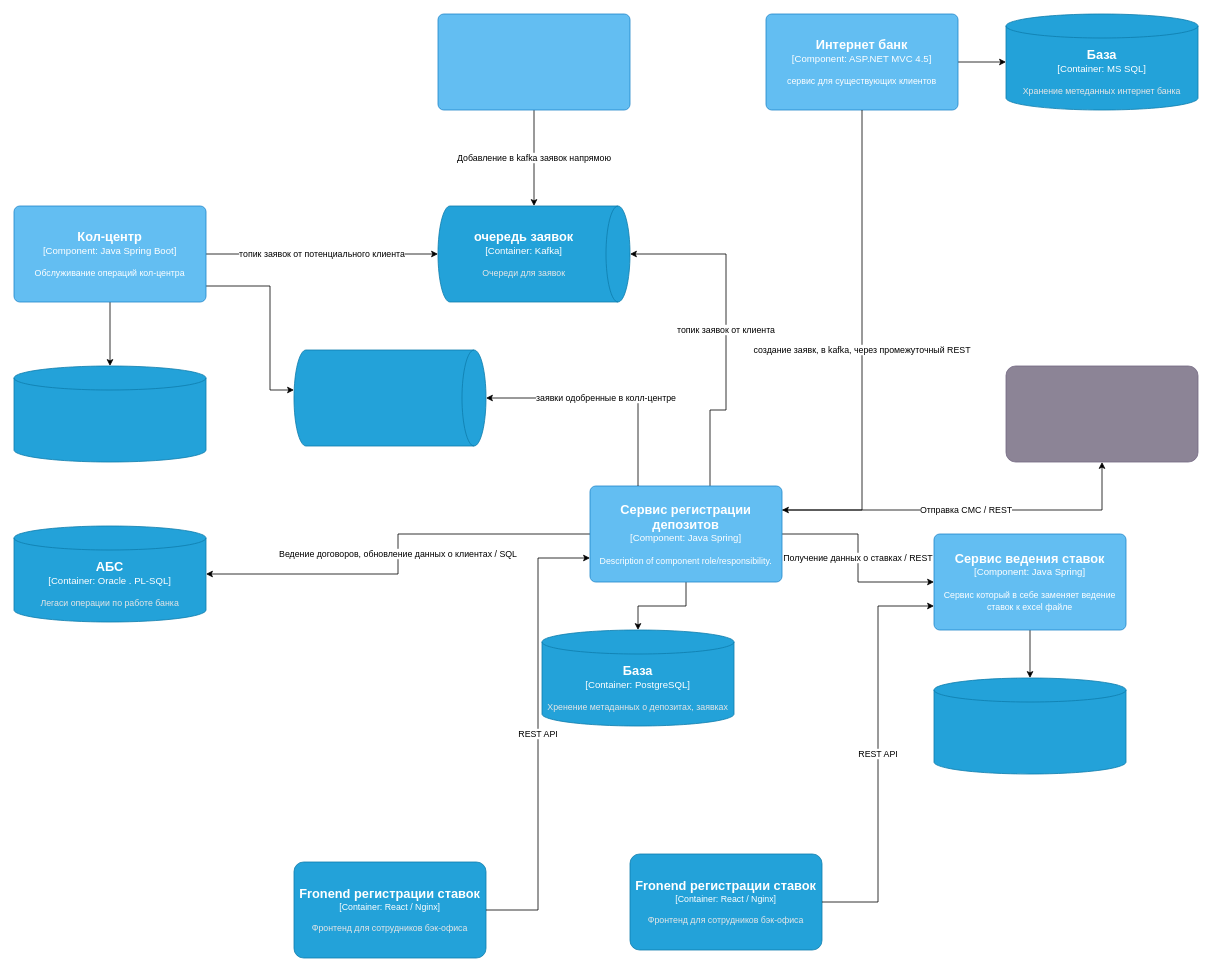
Image size: 1212x972. Some labels were removed from this diagram. The shapes that lost their labels are listed below. From the top down, each one's centre as x and y in pixels, then its label:
At (x=533, y=61): "Сайт [Component: PHP, React] Сайт для новых клиентов".
At (x=109, y=413): "База кол-центра [Container: PostgreSQL] Хранение метаданных кол-центра".
At (x=389, y=397): "Очередь на извещение [Container: Kafka] Передача заявок на одобрение".
At (x=1101, y=413): "СМС-шлюз [Software System] Description of external software system.".
At (x=1029, y=725): "База [Container: PostgreSQL] Метаданные о ставках".
